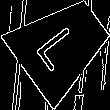L_NE: (34, 18, 90, 73)
